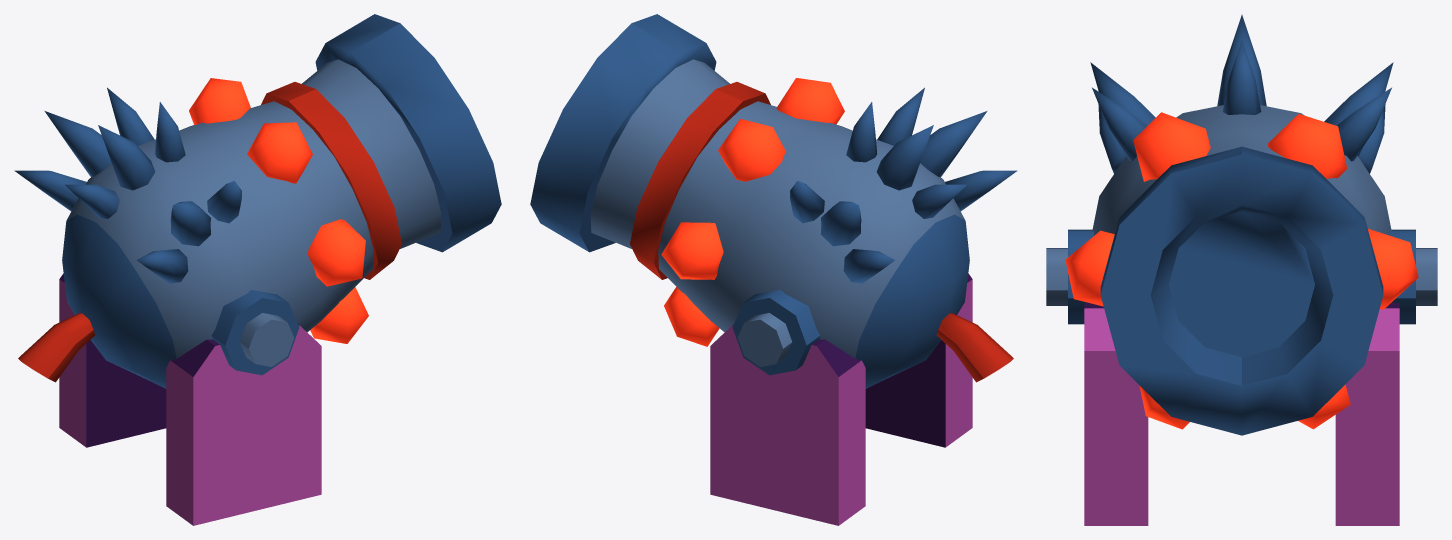
File: pushka_Lv4.fbx
3 views of the same model, side by side, from view 1: azimuth 30°, elevation 25°; view 2: azimuth 150°, elevation 25°; view 3: azimuth 270°, elevation 25° (orthographic). The views are drawn at different scales.
Visible parts, largest first — view 1: wTube.036, Cube.015, wTube.035, Icosphere.003, wTube.037, Cylinder.004, wTube.033, wTube.029, Cylinder.005, Cylinder.003, wTube.038, Cylinder.001 (+2 smaller); view 2: wTube.036, Cube.015, wTube.035, Icosphere.003, wTube.037, Cylinder.004, wTube.033, wTube.029, Cylinder.005, Cylinder.003, wTube.038, Cylinder.001 (+2 smaller); view 3: wTube.035, Cube.015, Icosphere.003, wTube.036, Cylinder.003, wTube.038, Cylinder.004, wTube.033, Cylinder, Cylinder.005, Cylinder.001.
Part boxes in pixels (<box>): wTube.036: <box>62,59,441,388</box>; Cube.015: <box>59,273,321,525</box>; wTube.035: <box>315,14,501,252</box>; Icosphere.003: <box>189,78,368,343</box>; wTube.037: <box>261,82,401,279</box>; Cylinder.004: <box>44,111,210,246</box>; wTube.033: <box>211,289,299,375</box>; wTube.029: <box>18,313,95,382</box>; Cylinder.005: <box>14,170,188,283</box>; Cylinder.003: <box>107,87,241,223</box>; wTube.038: <box>239,313,294,366</box>; Cylinder.001: <box>98,125,155,190</box>; wTube.036: <box>590,59,969,388</box>; Cube.015: <box>710,273,972,525</box>; wTube.035: <box>530,14,716,252</box>; Icosphere.003: <box>661,78,844,346</box>; wTube.037: <box>630,82,770,279</box>; Cylinder.004: <box>821,111,987,246</box>; wTube.033: <box>732,289,820,375</box>; wTube.029: <box>936,313,1013,382</box>; Cylinder.005: <box>843,170,1017,283</box>; Cylinder.003: <box>790,87,924,223</box>; wTube.038: <box>737,313,792,366</box>; Cylinder.001: <box>876,125,933,190</box>; wTube.035: <box>1100,146,1383,435</box>; Cube.015: <box>1084,303,1399,525</box>; Icosphere.003: <box>1065,112,1418,429</box>; wTube.036: <box>1092,105,1391,235</box>; Cylinder.003: <box>1092,87,1391,161</box>; wTube.038: <box>1046,248,1437,305</box>; Cylinder.004: <box>1090,62,1393,156</box>; wTube.033: <box>1068,229,1415,324</box>; Cylinder: <box>1222,40,1261,114</box>; Cylinder.005: <box>1098,104,1385,173</box>; Cylinder.001: <box>1217,14,1266,106</box>.
Size of the model in its own units: 589 by 489 by 381.
